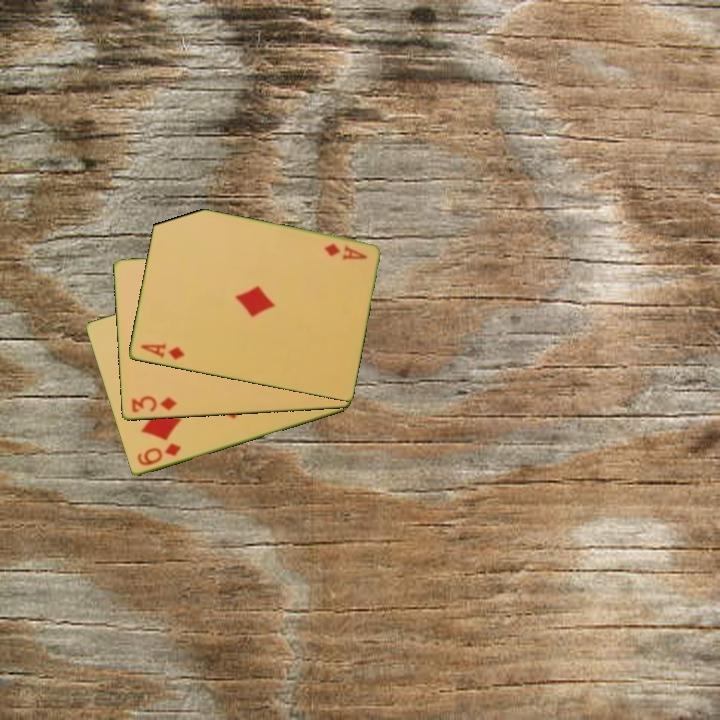3d: (128, 393, 180, 415)
6d: (133, 440, 184, 469)
Ad: (137, 340, 187, 363), (320, 240, 369, 263)
